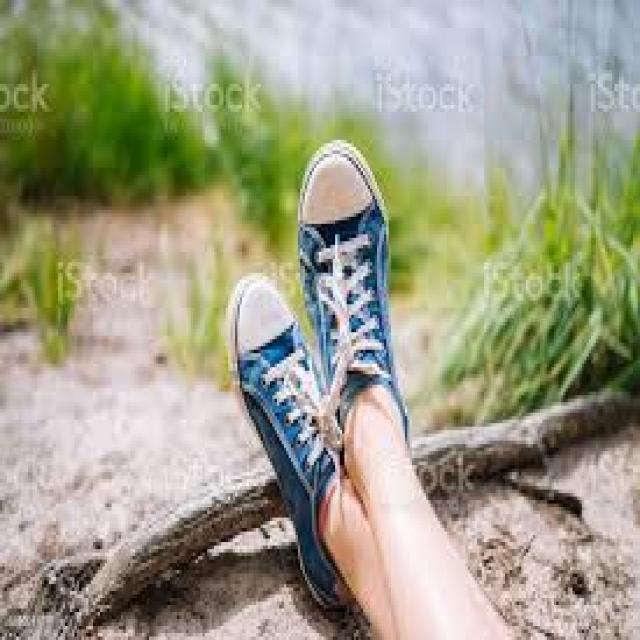shoe: (224, 272, 378, 621), (291, 138, 431, 485)
